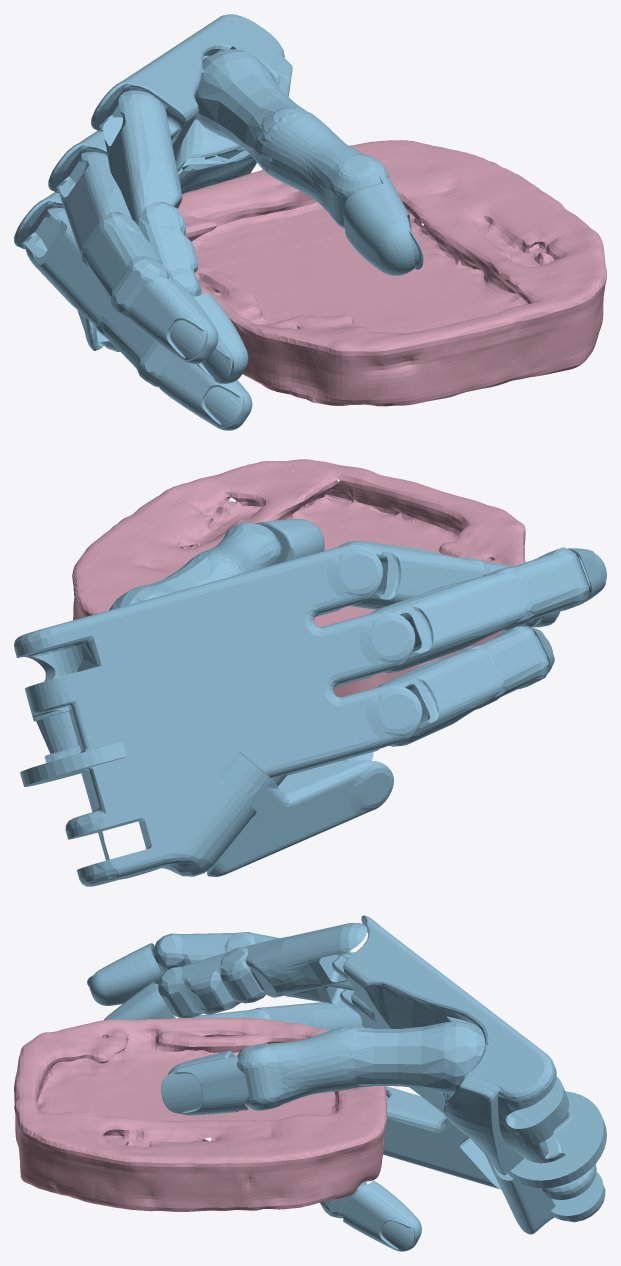
The picture shows the model from 3 angles, top to bottom: view 1: azimuth 30°, elevation 25°; view 2: azimuth 150°, elevation 25°; view 3: azimuth 270°, elevation 25°; orthographic projection. The views are drawn at different scales.
Visible parts, largest first — view 1: world, hand; view 2: hand, world; view 3: hand, world.
Boxes of the visible parts, x1,y1,x2,y2 form: world: (178,140,606,406); hand: (14,14,423,430); hand: (14,518,606,886); world: (72,459,525,696); hand: (87,915,606,1251); world: (14,1017,387,1211).
Bounding box in the file's own units: 0.1572 × 0.1001 × 0.209.
